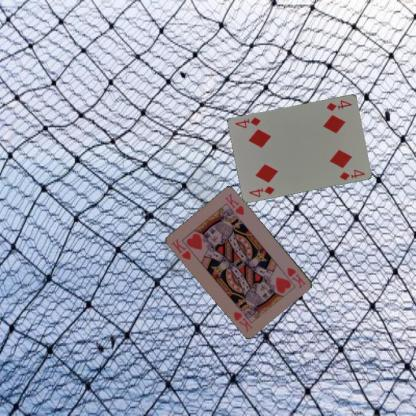4d: (324, 97, 353, 112), (247, 183, 276, 198)
Kh: (285, 265, 307, 290), (170, 236, 192, 261)
